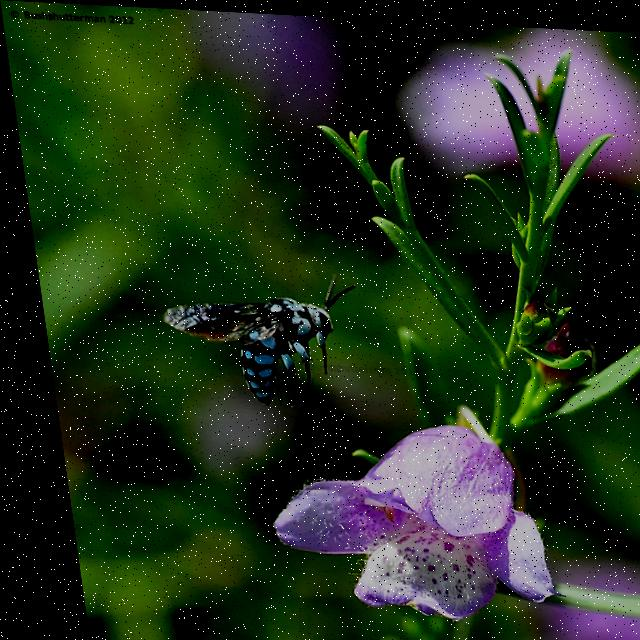Thyreus: (146, 262, 366, 414)
